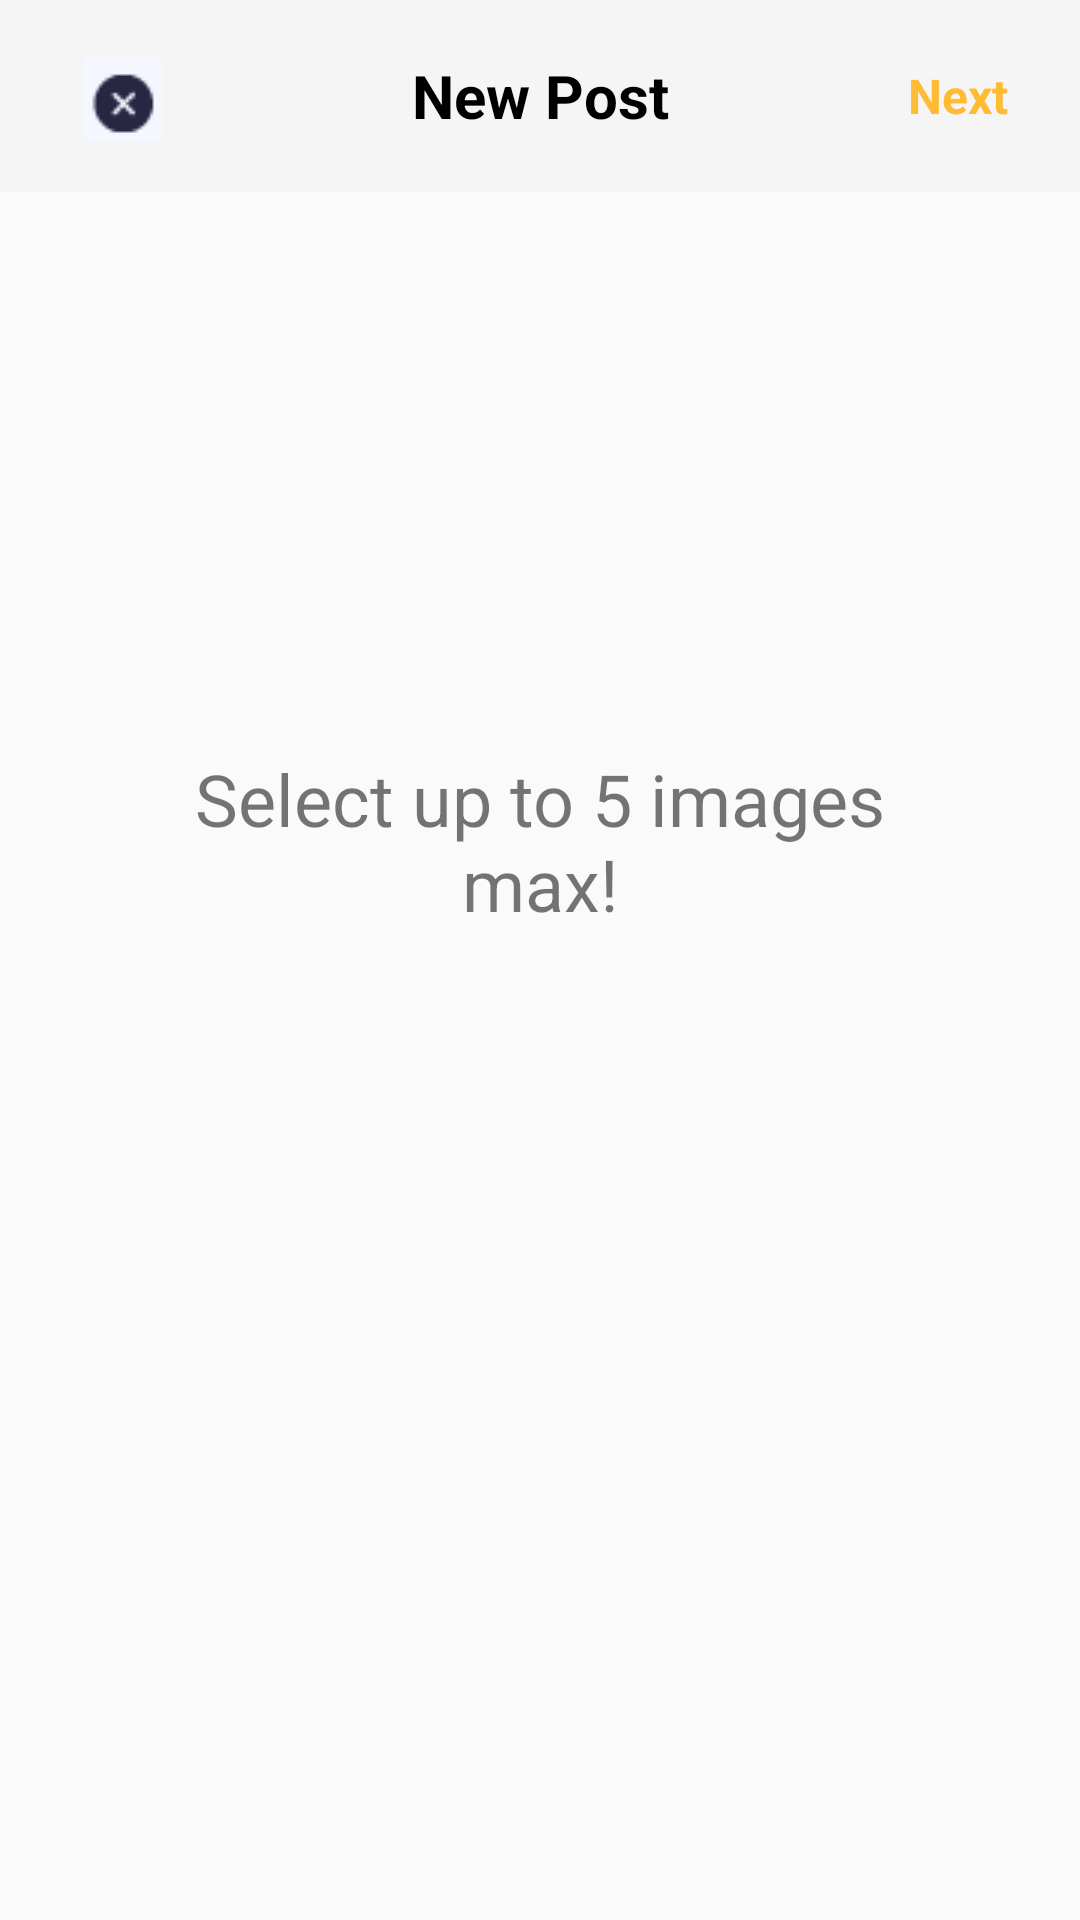

Icon click points for this 1080×1920 phone screenshot, format [x,y]:
X ImageButton in login page that leads back to previous page: [123,103]
